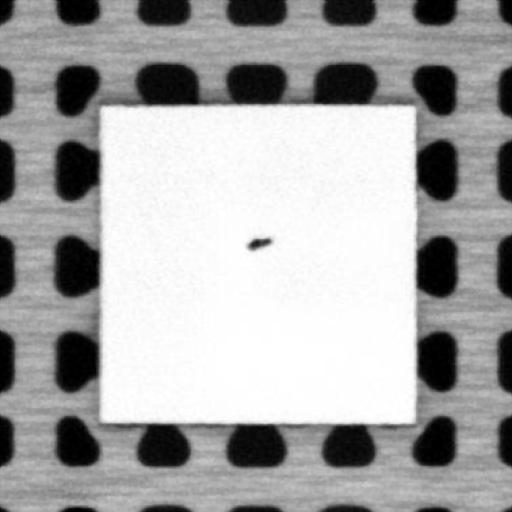DIE_INK: (244, 232, 272, 252)
